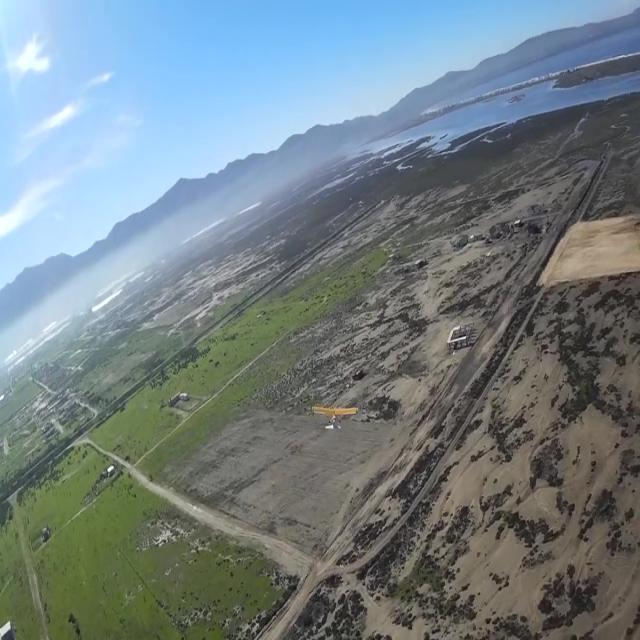iha: (310, 404, 359, 431)
